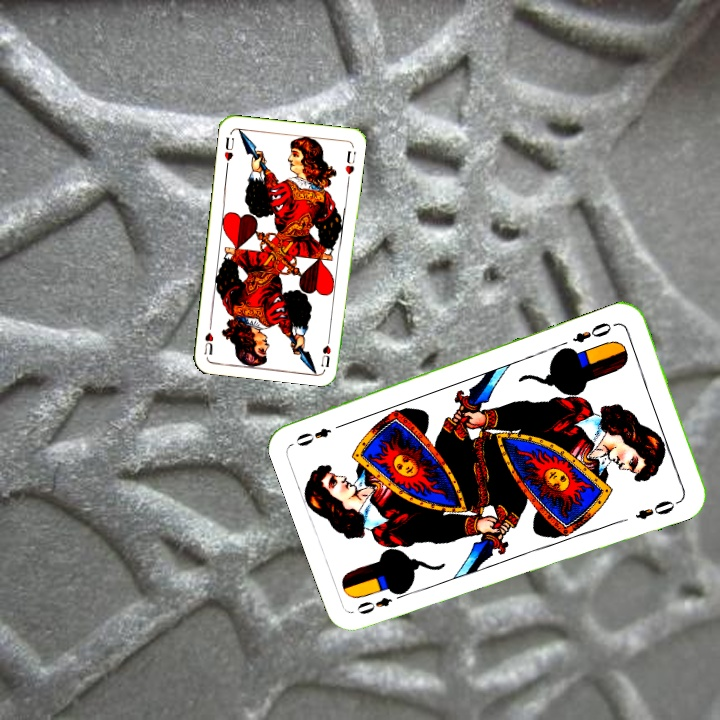EO: (568, 318, 615, 346), (352, 593, 395, 617)
HU: (317, 330, 334, 370), (220, 133, 237, 163)
